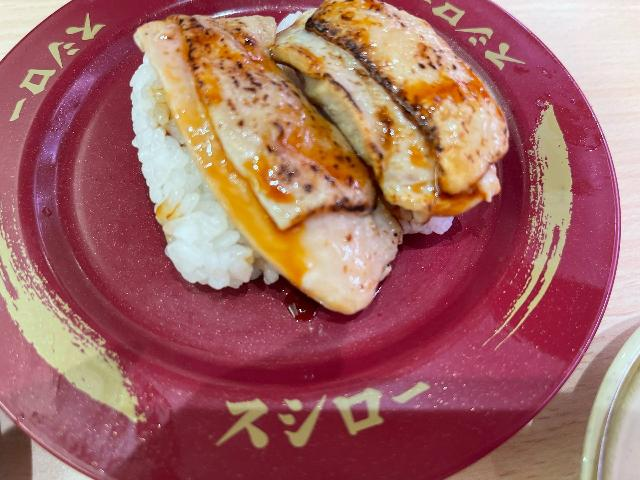janred: (0, 0, 585, 480)
